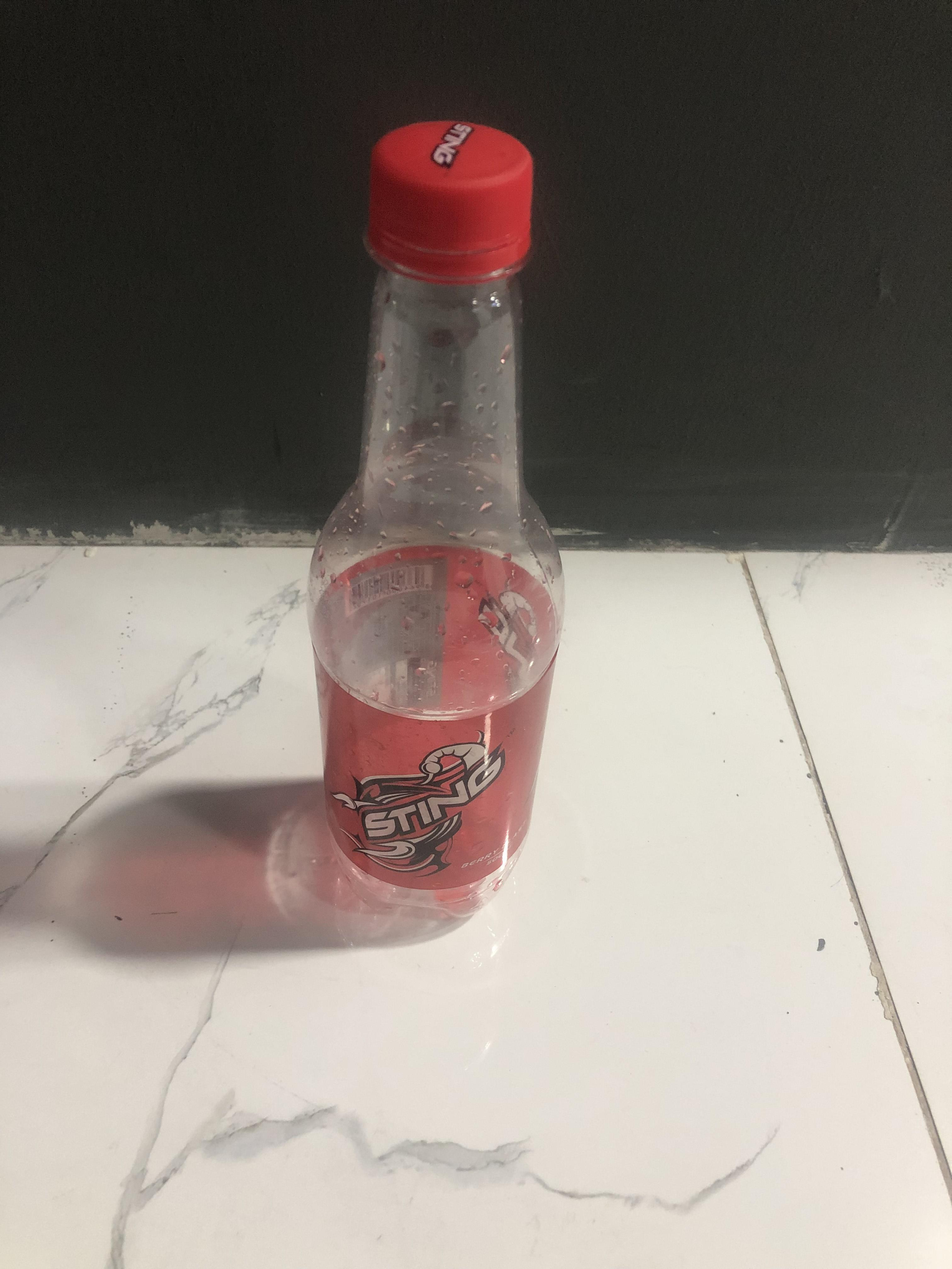bottle-plastic: (303, 115, 564, 935)
